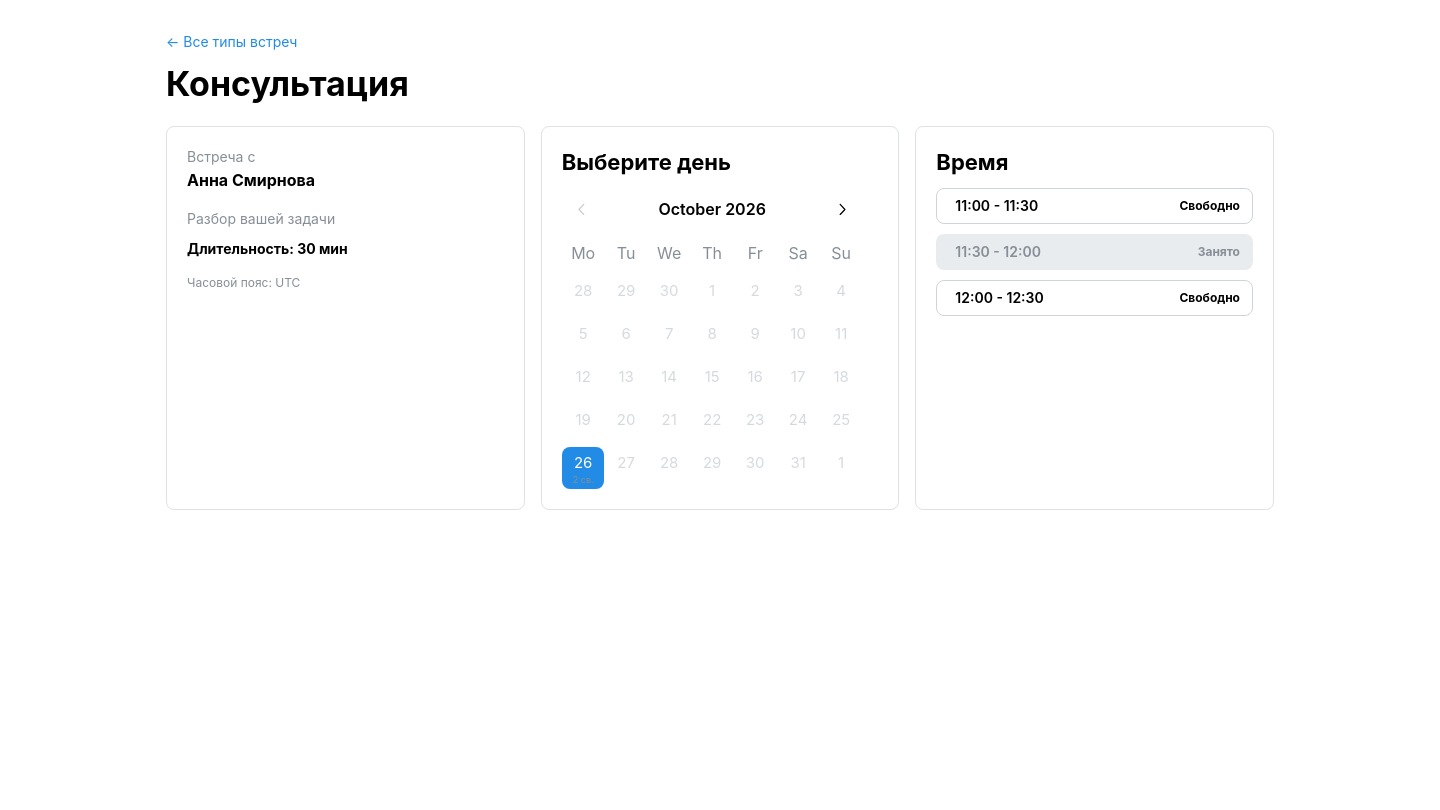
Scenario: гостевая страница: запись на выбранный тип встречи › 409 и неудачное обновление лестницы — прежняя лестница остаётся на экране
This screenshot has width=1440, height=810.
Click the button "11:00 - 11:30 Свободно" at point(997, 206), box [936,188,1253,224]
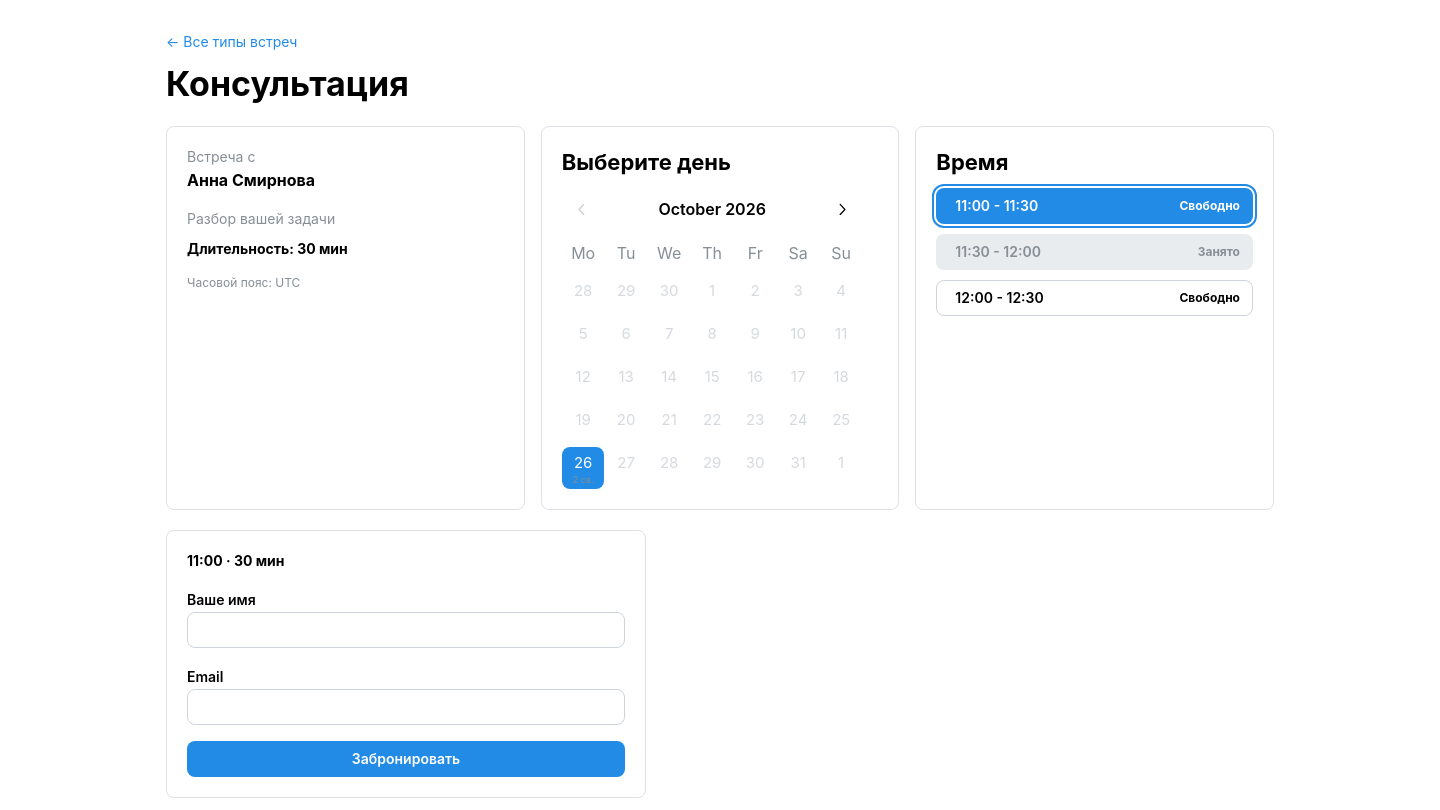
Type "Гость" into the field labelled "Ваше имя" at point(406, 630), box [187,612,625,648]
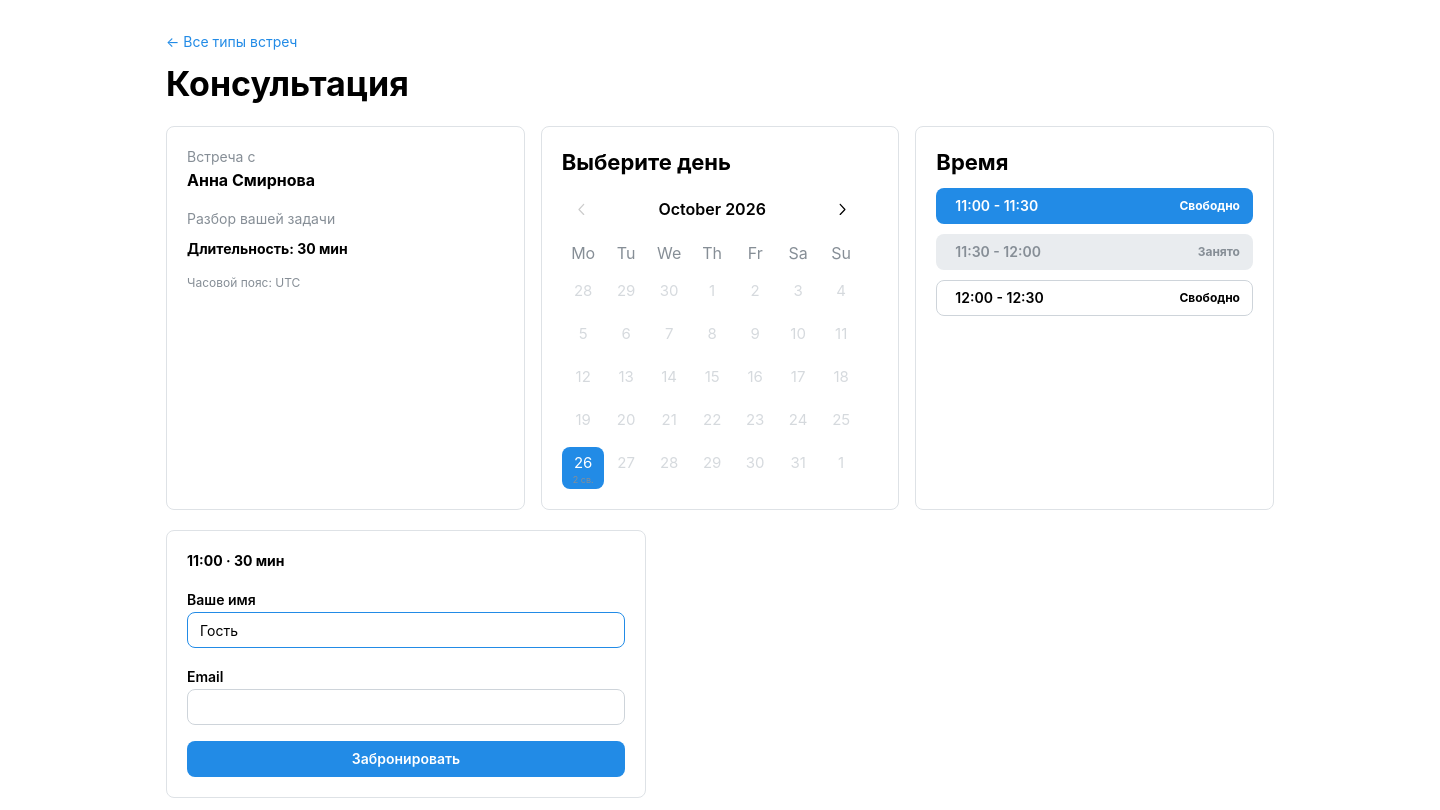
Type "guest@example.com" into the field labelled "Email" at point(406, 707), box [187,689,625,725]
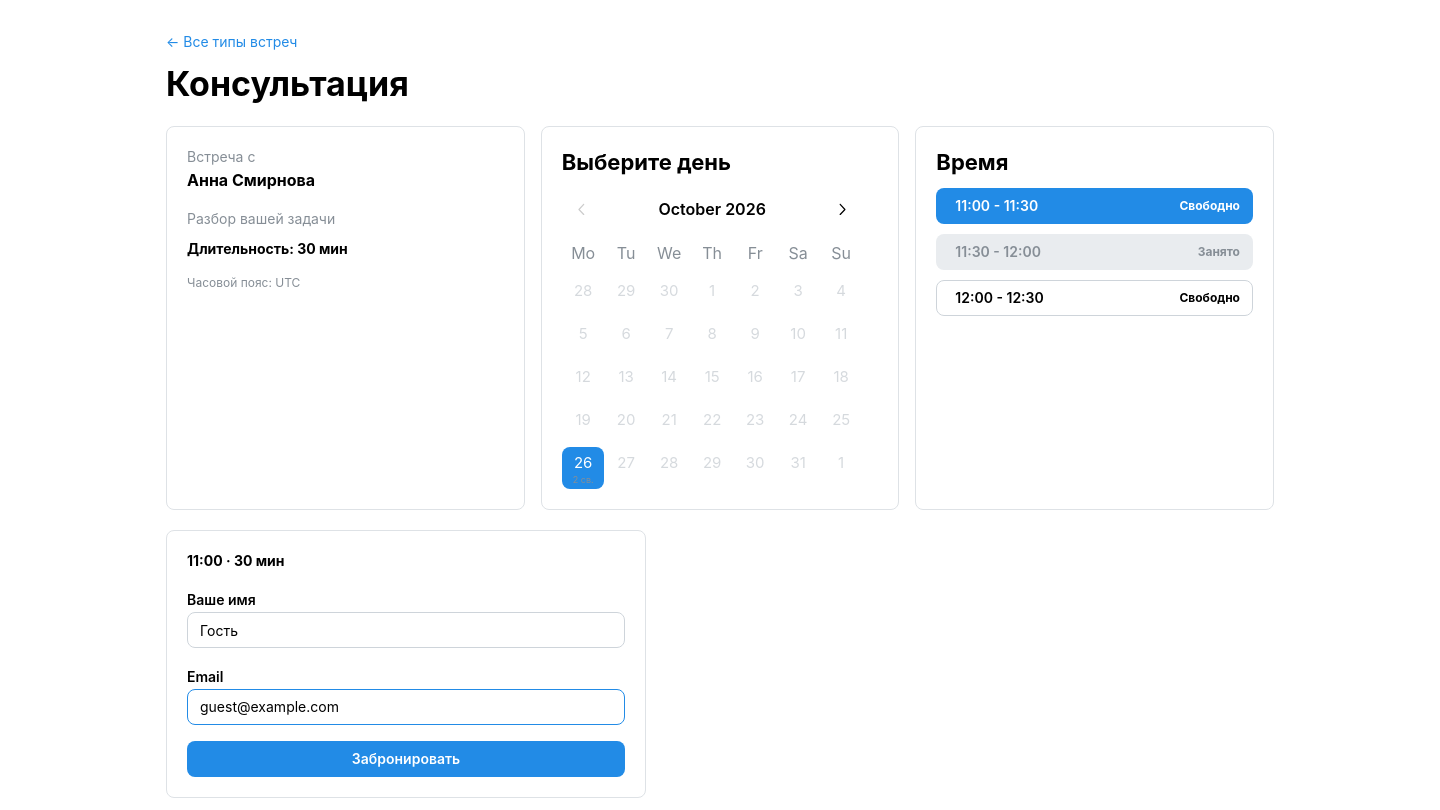
Click the button "Забронировать" at point(406, 759), box [187,741,625,777]
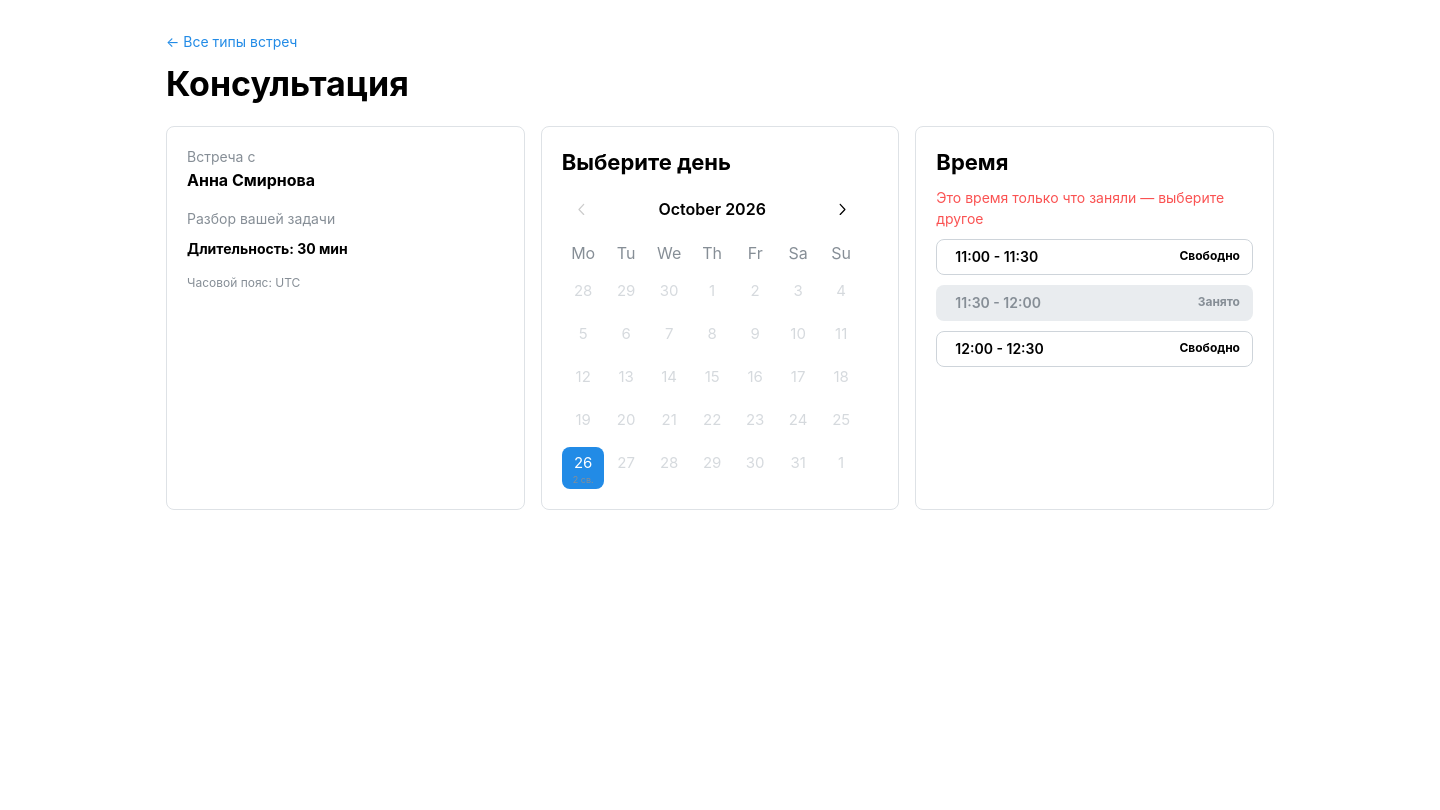
Expected: the button "12:00 - 12:30 Свободно" is shown, [936,331,1253,367]
Result: the text "Это время только что заняли — выберите другое" is shown at [936,188,1253,229]
